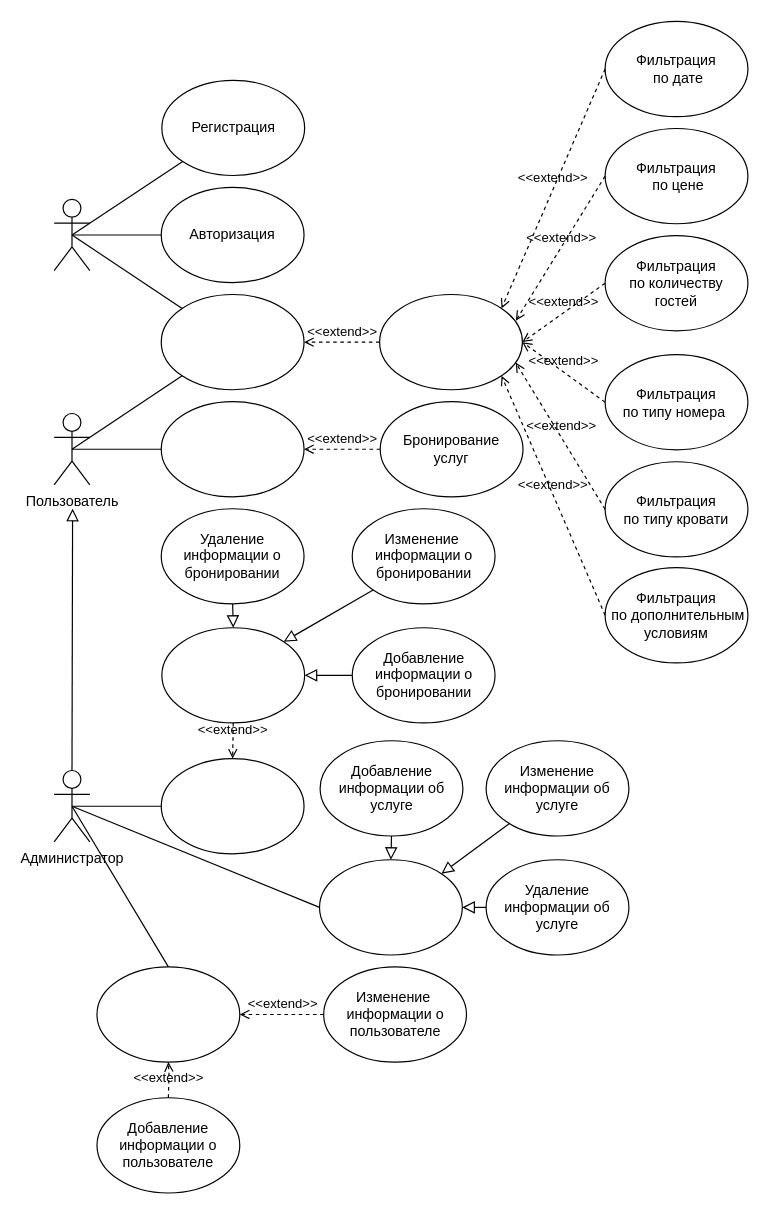
The diagram is 769 pixels wide and 1214 high, and some of its shapes have lost their labels. The box of each missing label's shape, as (x1, y1, x2, y2) in pixels:
Гость: (53, 198, 90, 271)
Просмотр информации о бронировании: (160, 757, 304, 854)
Просмотр списка номеров: (160, 293, 304, 390)
Просмотр списка пользователей: (96, 966, 240, 1062)
Просмотр списка услуг: (160, 400, 304, 497)
Редактирование информации о бронировании: (161, 627, 305, 723)
Редактирование информации о услугах: (318, 859, 462, 955)
Фильтрация списка номеров: (378, 293, 522, 390)
